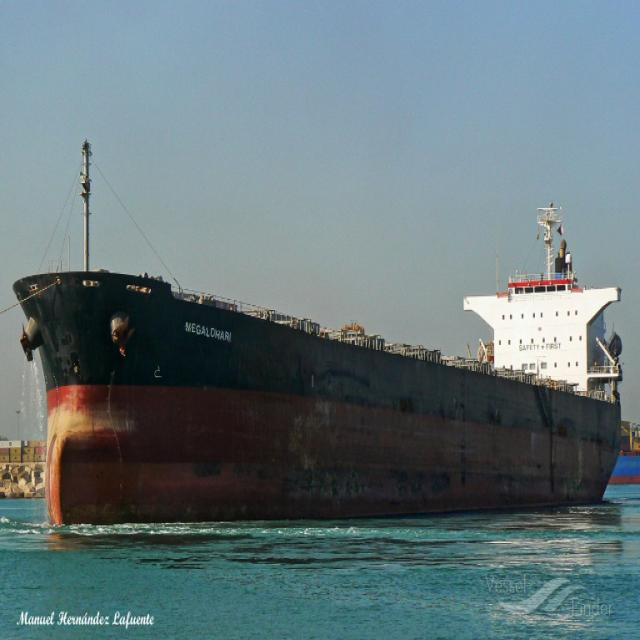OCR: (178, 312, 232, 357)
